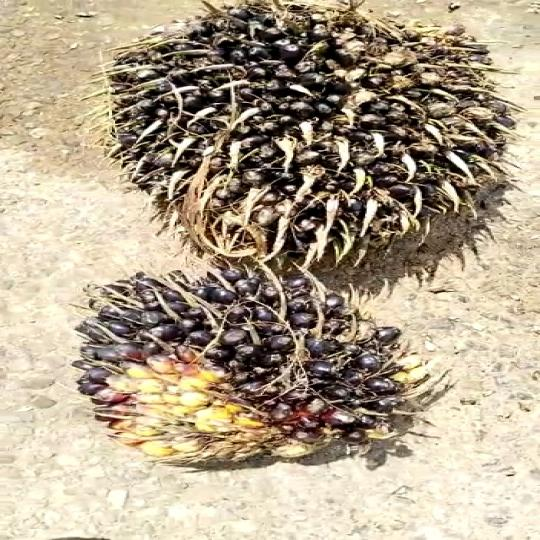mentah: (87, 14, 526, 280), (78, 272, 434, 474)
